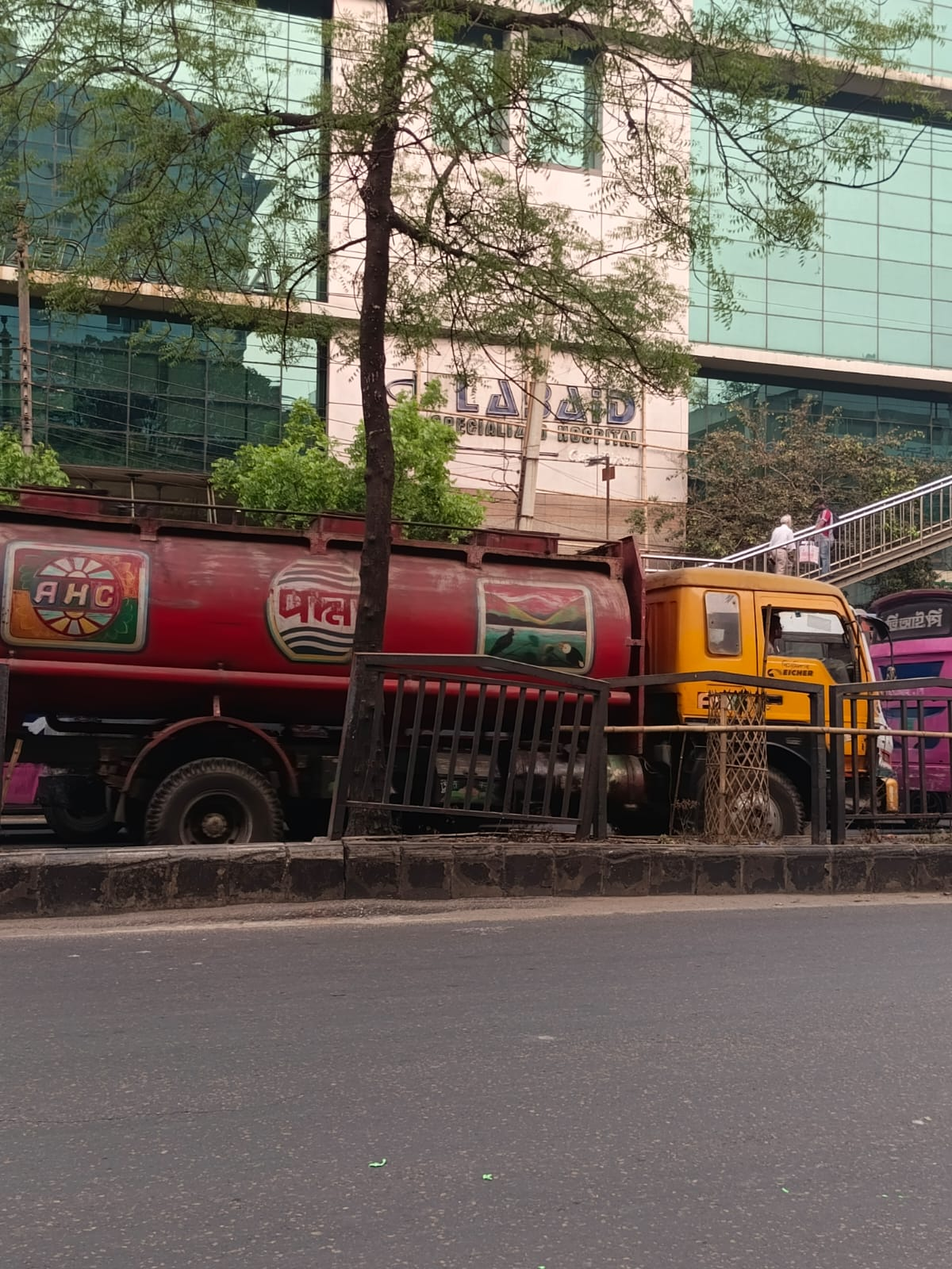Truck: (0, 453, 889, 851)
